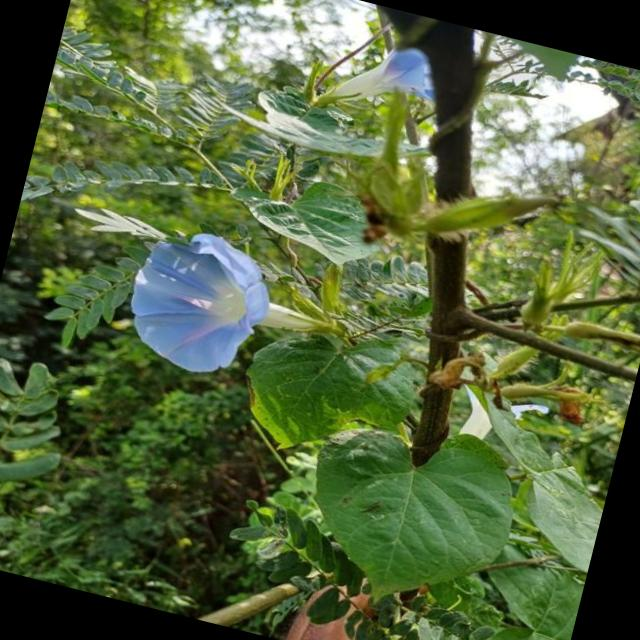ipomoea: (110, 214, 288, 390), (316, 26, 447, 132)
